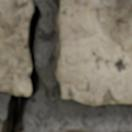brick: (54, 0, 131, 105), (0, 0, 32, 94), (57, 129, 86, 131)
crack: (0, 1, 42, 131)
